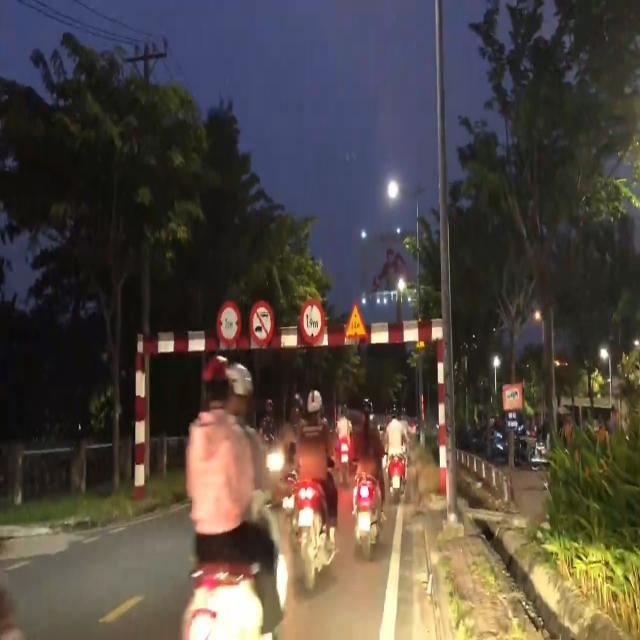Bien bao cam xe oto khach va xe oto tai: (249, 298, 275, 350)
Bien bao chieu cao tinh khong thuc te: (344, 295, 368, 340)
Bien bao han che chieu cao: (299, 297, 328, 347)
